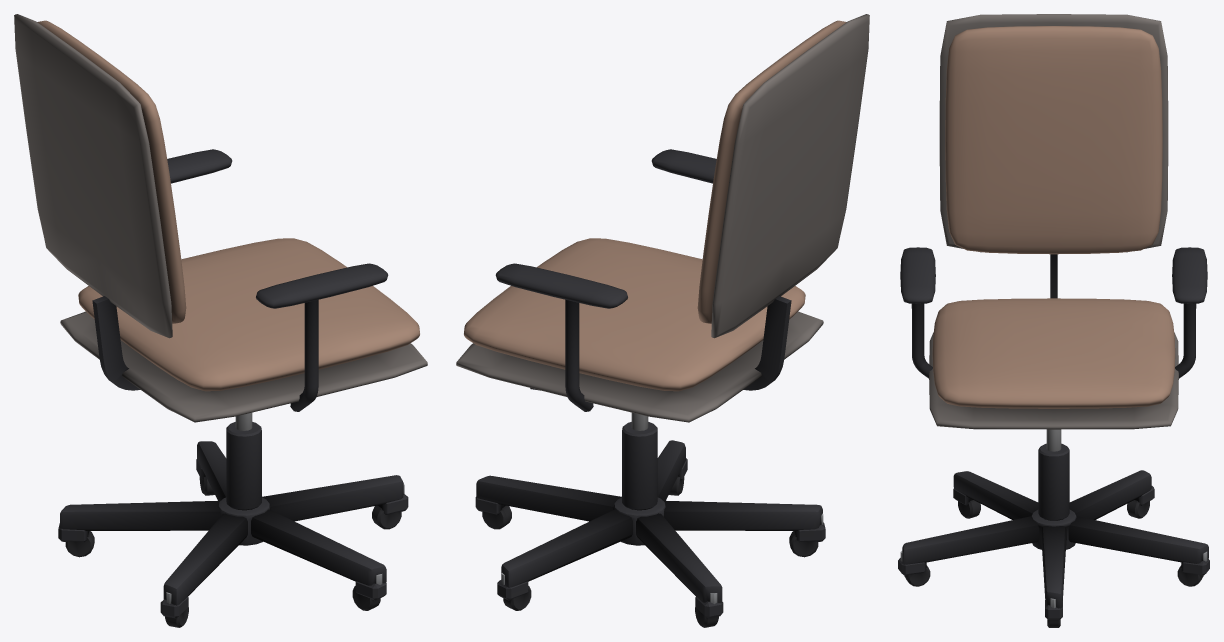
The model's file is seat_office.glb.
3 renders of one model, left to right at view 1: azimuth 30°, elevation 25°; view 2: azimuth 150°, elevation 25°; view 3: azimuth 270°, elevation 25°, orthographic. The views are drawn at different scales.
Parts seen in each view (by area): view 1: PART; view 2: PART; view 3: PART.
Part boxes in pixels (x1,y1,x2,y2): PART: (14,14,427,627); PART: (456,14,869,627); PART: (898,14,1209,627).
Bounding box in the file's own units: 0.6398 × 1.01 × 0.5965.
